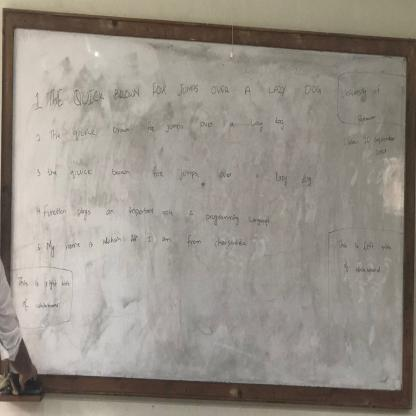Handwritten text: (42, 71, 327, 111), (42, 156, 317, 192), (43, 194, 275, 228), (45, 114, 288, 145), (43, 232, 254, 261), (333, 232, 394, 259), (13, 269, 74, 293), (340, 261, 384, 284), (17, 295, 63, 316)
Whiteboard: (4, 21, 409, 397)
